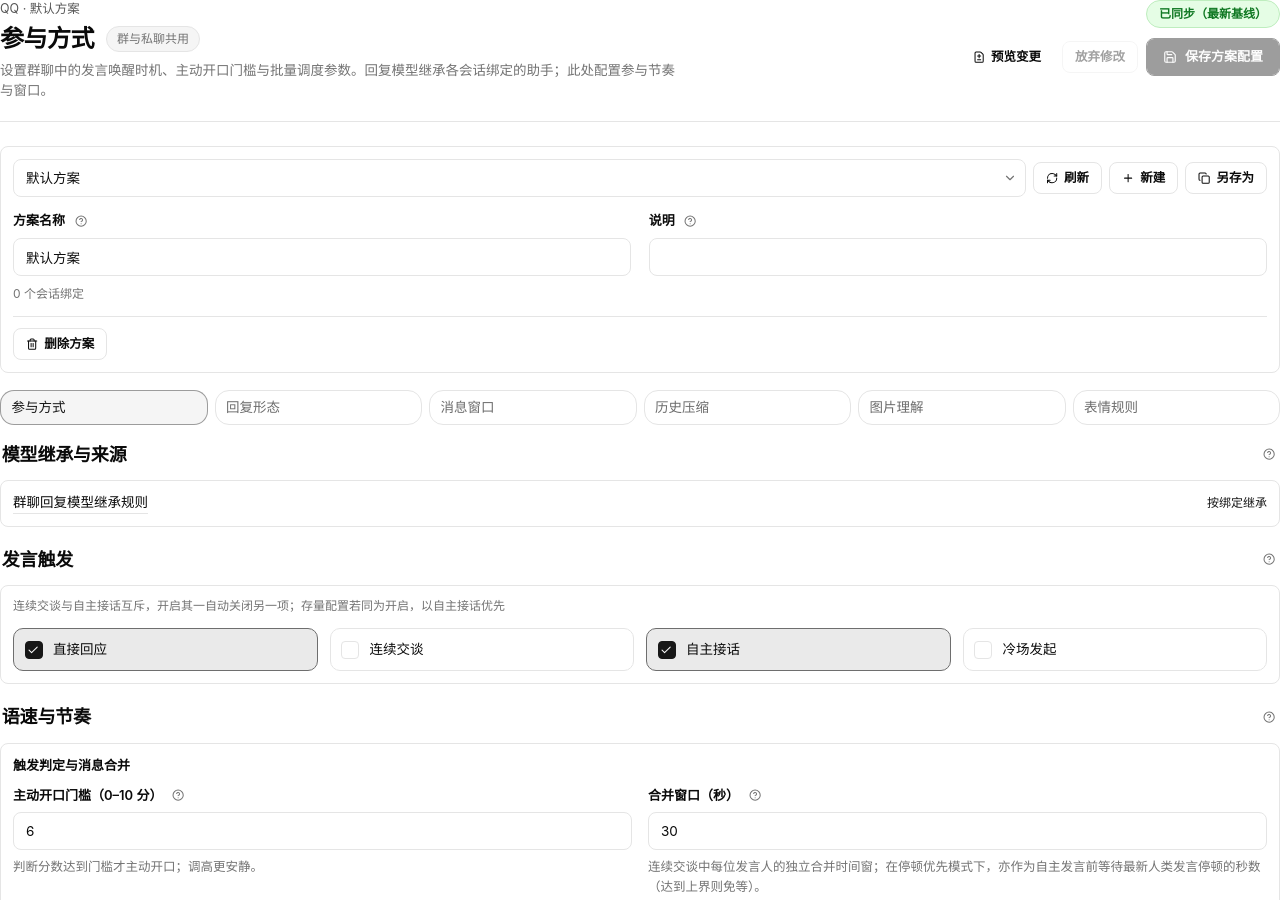
Scheme studio new / copy on a dirty draft › asks save / discard / cancel before a new scheme replaces the draft, and Cancel keeps everything
The image size is (1280, 900).
Replace the text in the number field labelled "合并窗口（秒）" with "15": (958, 831) [648,812,1267,850]
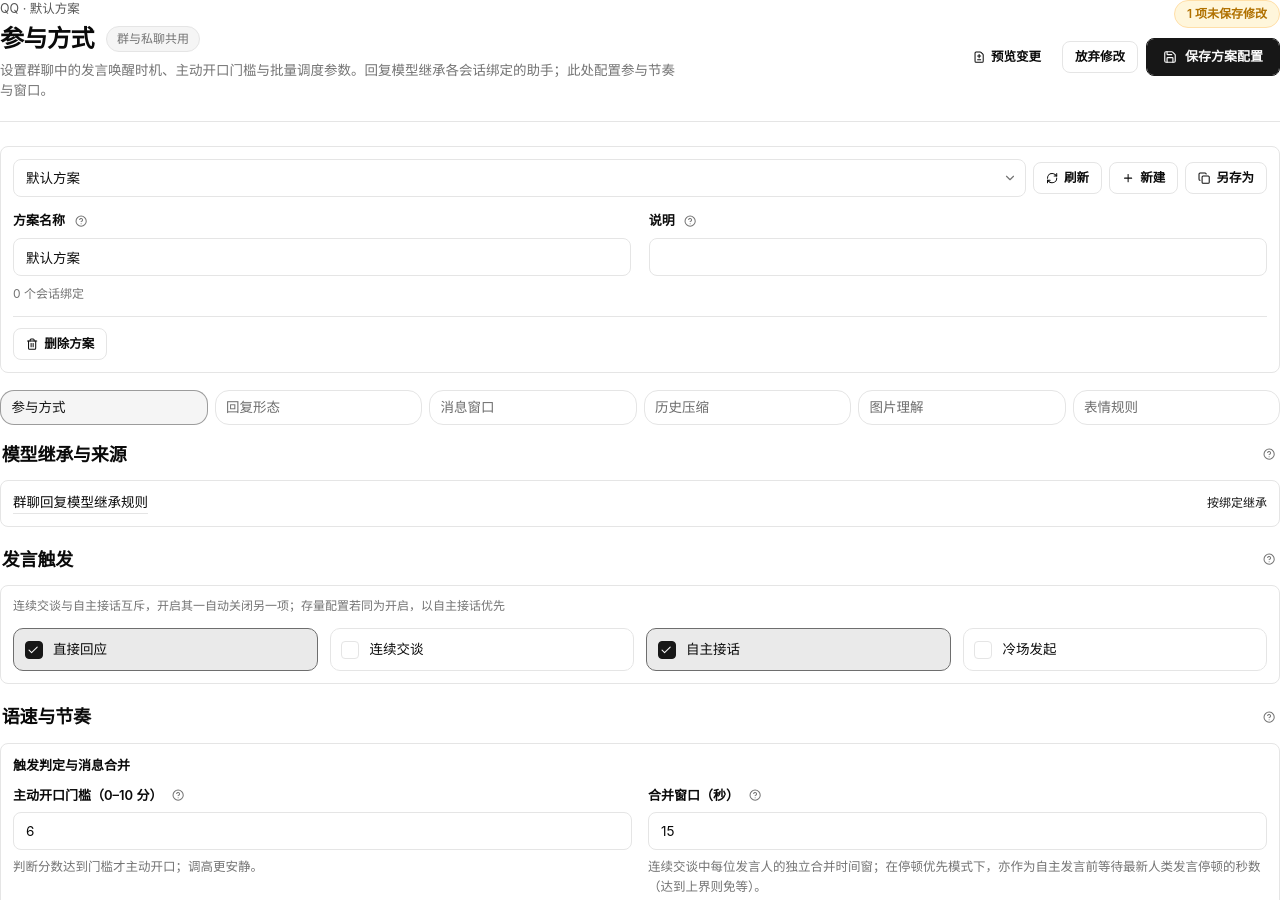
Click the button "新建": (1144, 178) [1109,162,1178,194]
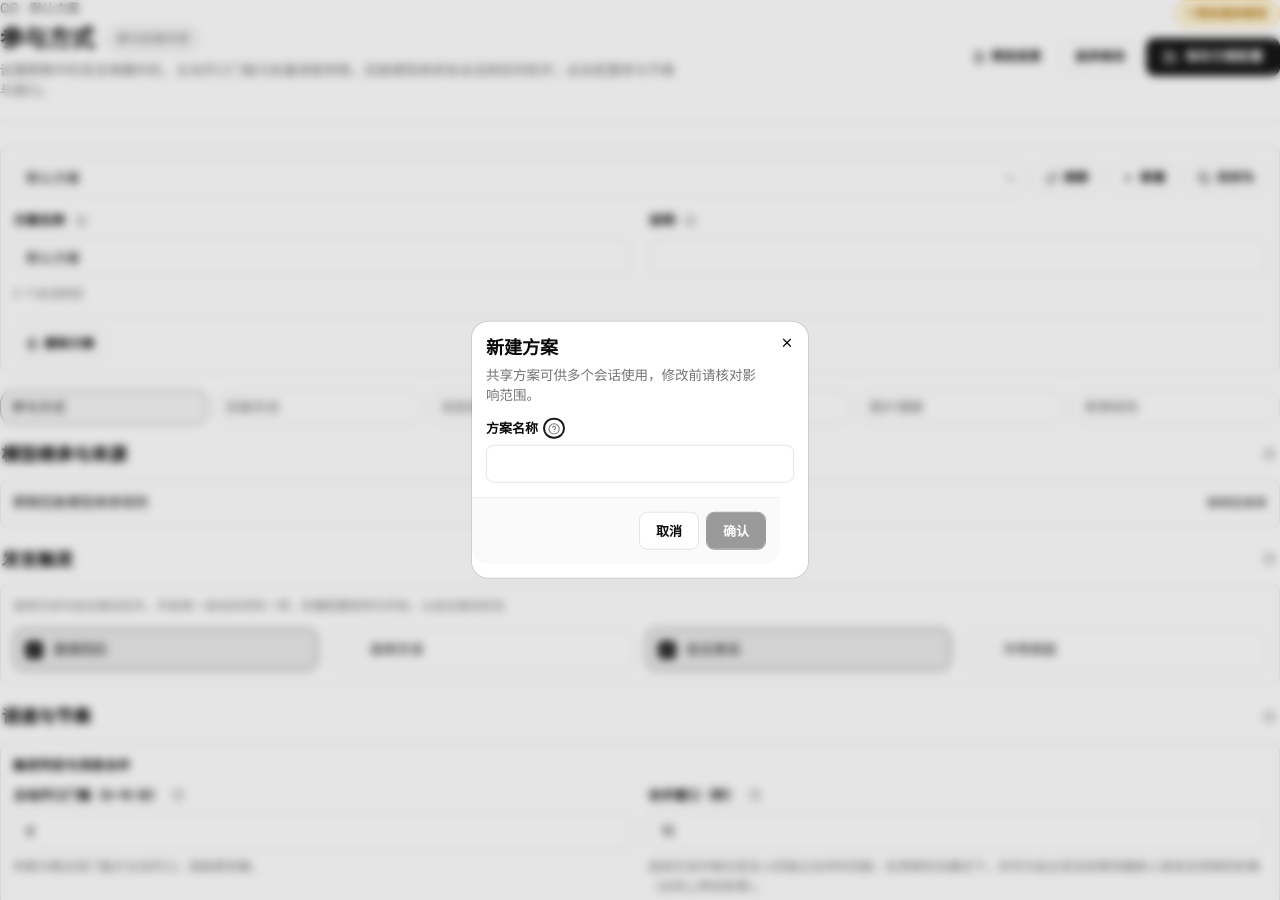
In the field: (640, 464) [486,445,794,483], type "我的新方案"
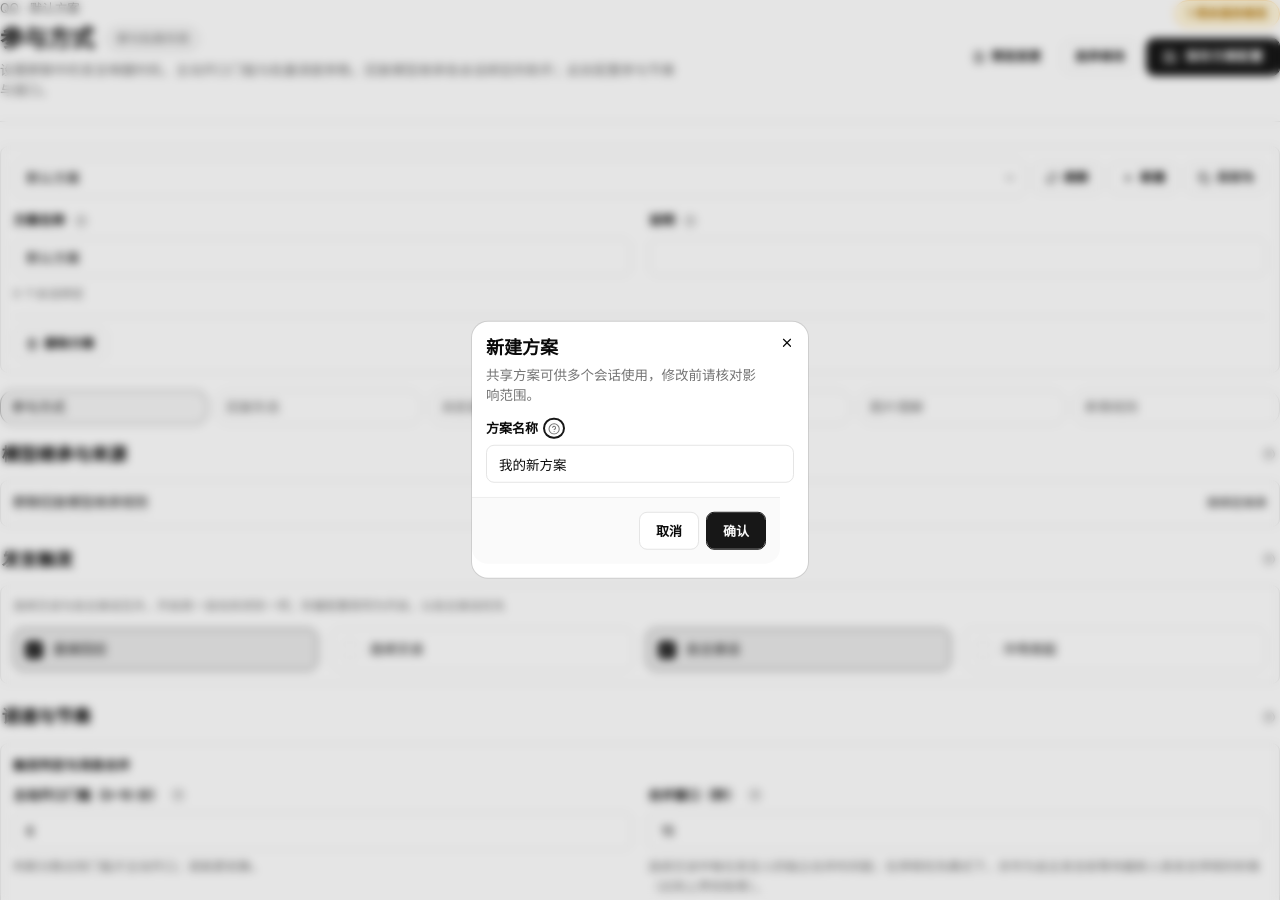
Click the button "确认": (736, 531) [706,512,766,550]
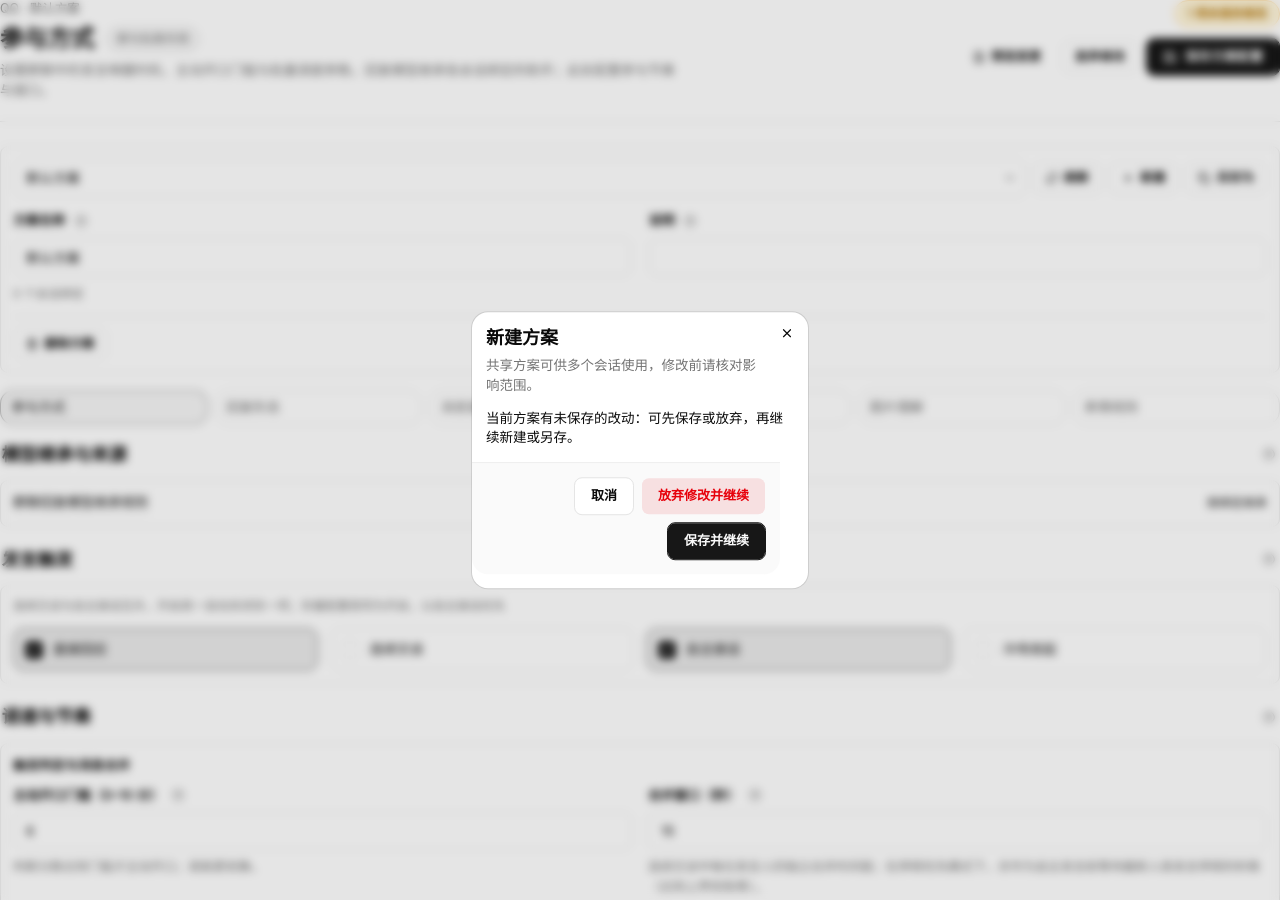
Expected: the text "当前方案有未保存的改动：可先保存或放弃，再继续新建或另存。" is shown, [486,409,794,448]
Click the button "取消": (604, 496) [574,477,634,515]
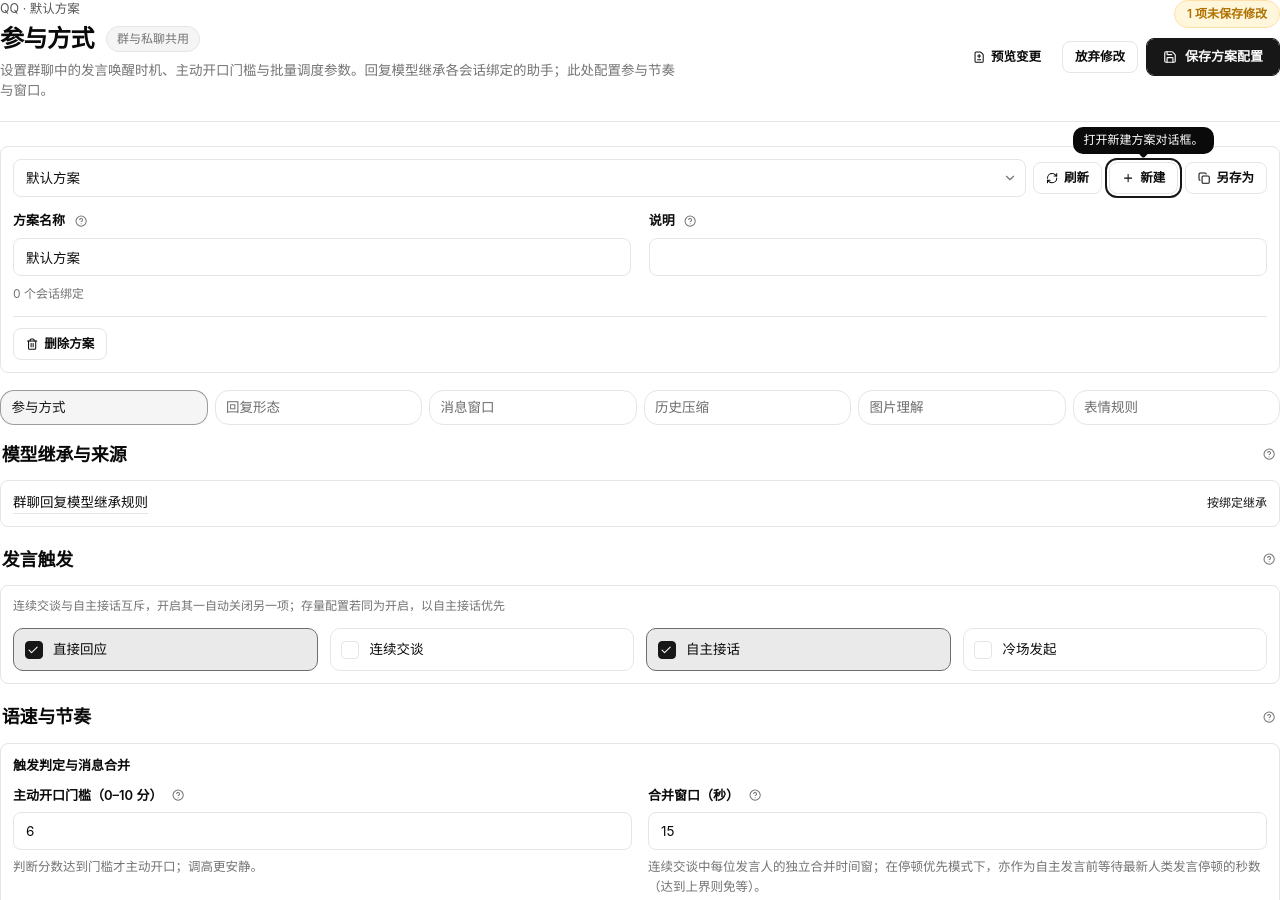
Expected: the dialog is gone
